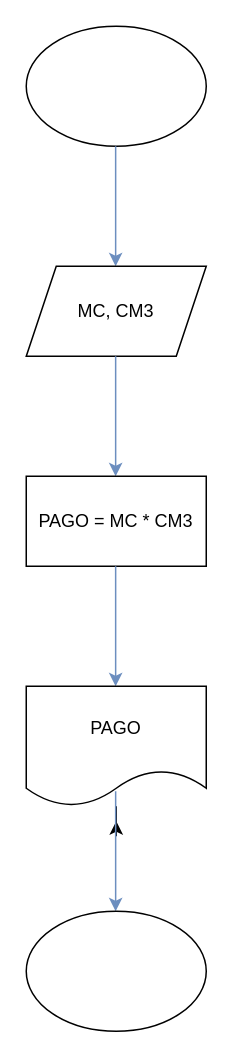
The diagram is 233 pixels wide and 1058 high, and some of its shapes have lost their labels. Each missing label, with the centre of its shape:
"FIN" goes at (x=115, y=970).
"INICIO" goes at (x=115, y=85).
